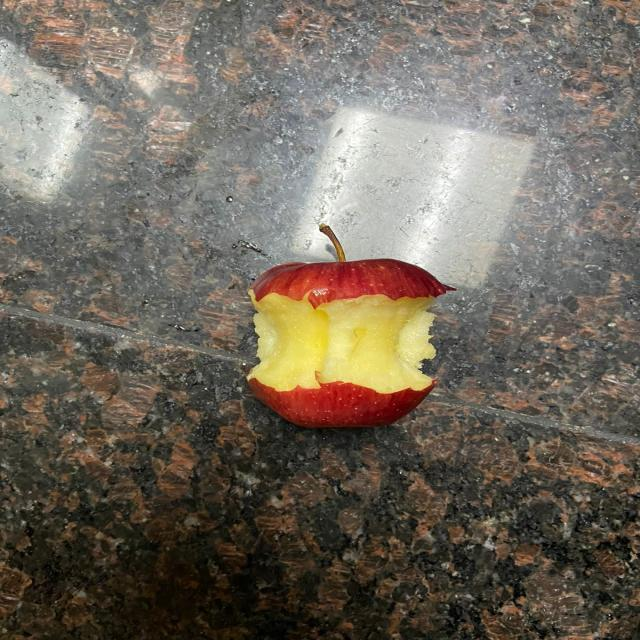apple: (239, 217, 452, 432)
